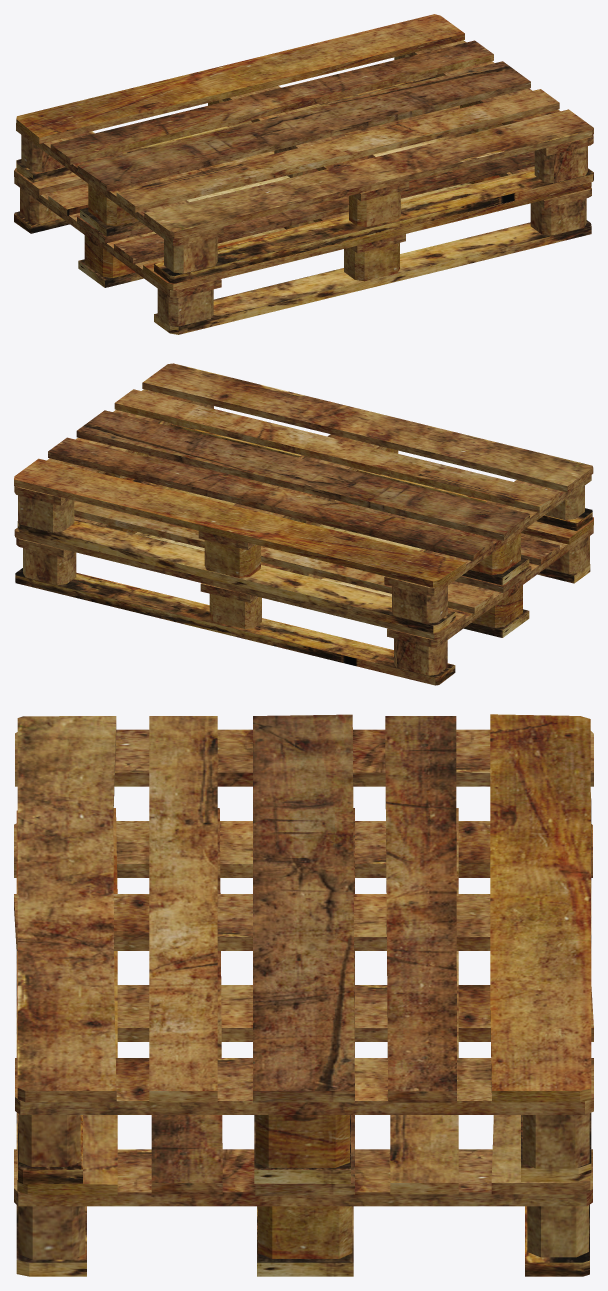
File: palettes.FBX
The picture shows the model from 3 angles, top to bottom: view 1: azimuth 30°, elevation 25°; view 2: azimuth 150°, elevation 25°; view 3: azimuth 270°, elevation 25°; orthographic projection. The views are drawn at different scales.
Visible parts, largest first — view 1: palettes; view 2: palettes; view 3: palettes.
Part boxes in pixels (x1=…): palettes: x1=14, y1=14, x2=593, y2=334; palettes: x1=14, y1=363, x2=593, y2=685; palettes: x1=14, y1=714, x2=593, y2=1276.
Size of the model in its own units: 1.23 by 0.2851 by 0.8002.
